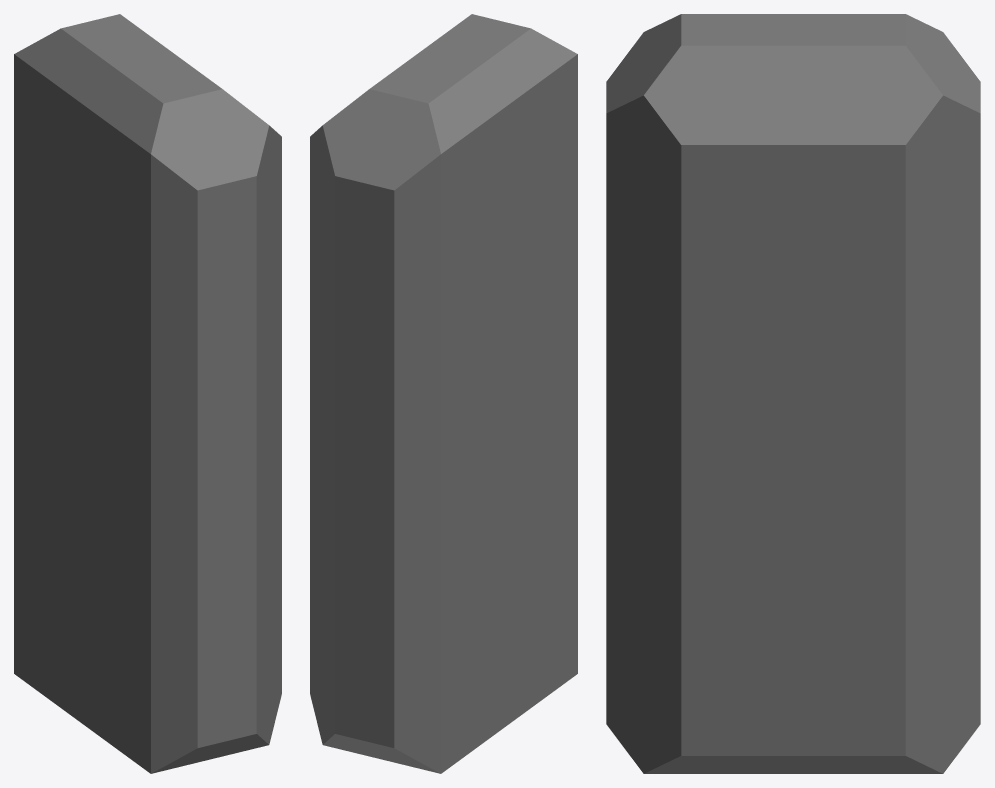
File: Rocket thing.fbx
3 renders of one model, left to right at view 1: azimuth 30°, elevation 25°; view 2: azimuth 150°, elevation 25°; view 3: azimuth 270°, elevation 25°, orthographic. The views are drawn at different scales.
Visible parts, largest first — view 1: Box001; view 2: Box001; view 3: Box001.
Boxes of the visible parts, left/top/right/bottom form: Box001: left=14, top=14, right=281, bottom=773; Box001: left=310, top=14, right=577, bottom=773; Box001: left=606, top=14, right=980, bottom=773.
Size of the model in its own units: 25 by 50 by 105.
Materials: 1 (1 with a texture image).
